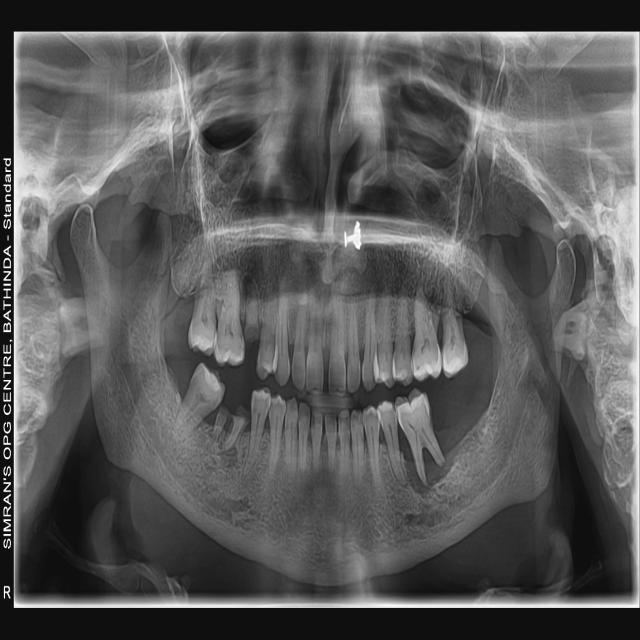Root Piece: (224, 404, 250, 450), (244, 280, 260, 344), (212, 404, 229, 440)
